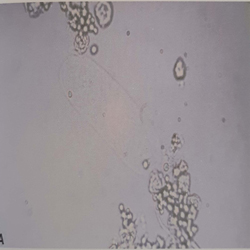Cast: (50, 50, 162, 175)
